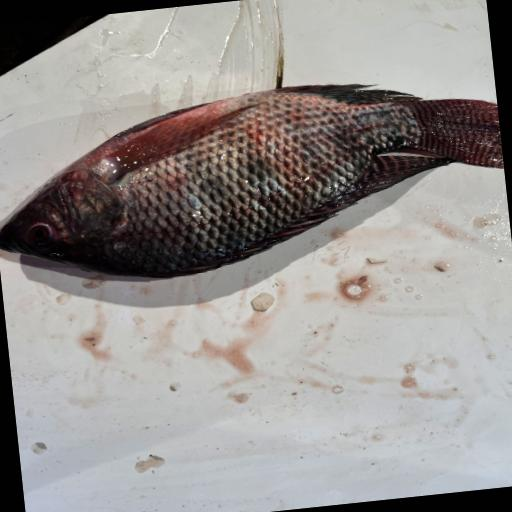Tilapia: (0, 65, 511, 295)
